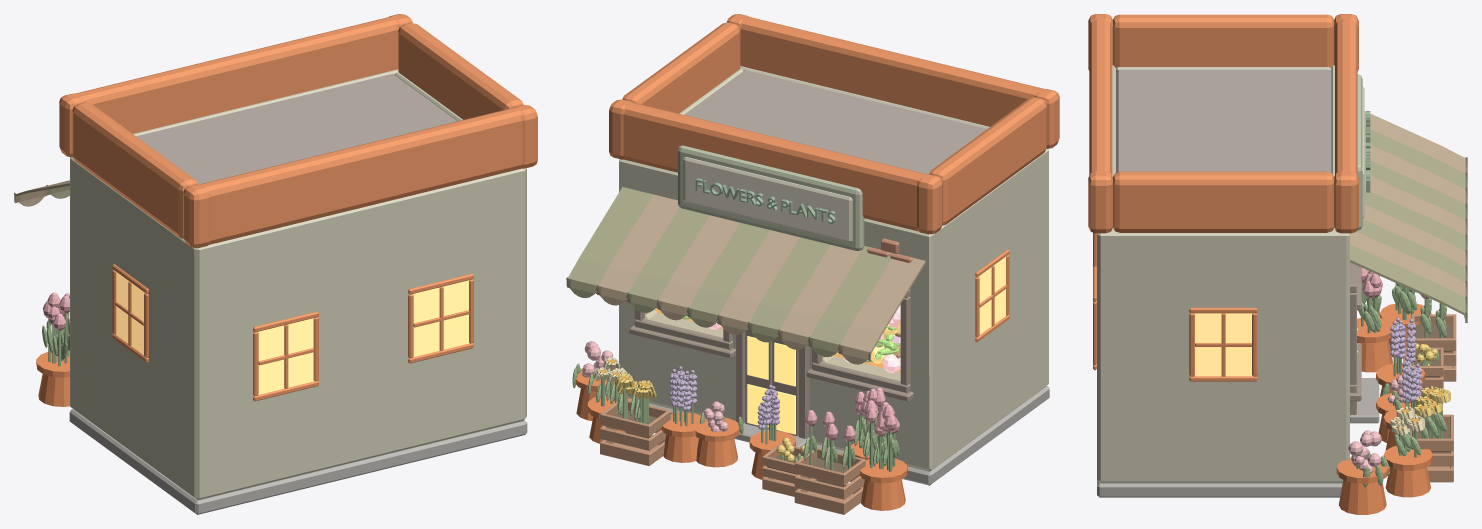
The model's file is 03-flower-shop.glb.
3 views of the same model, side by side, from view 1: azimuth 30°, elevation 25°; view 2: azimuth 150°, elevation 25°; view 3: azimuth 270°, elevation 25° (orthographic). The views are drawn at different scales.
Parts seen in each view (by area): view 1: Walls, ParB, Deck, ParF, ParL, Slab, ParR, SW_back_070_glow.001, SW_back_070_glow, ParC4, SW_left_000_glow, RimF (+5 smaller); view 2: Walls, Deck, ParB, ParF, Sign_plaque, ParL, ParR, Sign_frame, AwnS_0, AwnS_9, AwnS_8, AwnS_1 (+40 smaller); view 3: Walls, Deck, ParR, ParL, ParB, Slab, ParF, SW_right_000_glow, AwnS_9, AwnS_8, AwnS_7, AwnS_5 (+24 smaller).
Boxes of the visible parts, x1=… form: Walls: x1=70, y1=157, x2=526, y2=500; ParB: x1=193, y1=105, x2=528, y2=244; Deck: x1=136, y1=73, x2=457, y2=184; ParF: x1=68, y1=14, x2=403, y2=133; ParL: x1=72, y1=102, x2=197, y2=238; Slab: x1=69, y1=409, x2=527, y2=514; ParR: x1=398, y1=23, x2=523, y2=119; SW_back_070_glow.001: x1=413, y1=280, x2=469, y2=356; SW_back_070_glow: x1=258, y1=318, x2=314, y2=394; ParC4: x1=183, y1=184, x2=210, y2=248; SW_left_000_glow: x1=116, y1=272, x2=144, y2=354; RimF: x1=133, y1=69, x2=398, y2=136; Walls: x1=619, y1=149, x2=1048, y2=471; Deck: x1=685, y1=70, x2=986, y2=174; ParB: x1=735, y1=14, x2=1050, y2=126; ParF: x1=618, y1=100, x2=933, y2=231; Sign_plaque: x1=683, y1=157, x2=852, y2=242; ParL: x1=929, y1=97, x2=1046, y2=225; ParR: x1=622, y1=22, x2=740, y2=113; Sign_frame: x1=678, y1=145, x2=864, y2=250; AwnS_0: x1=838, y1=257, x2=925, y2=364; AwnS_9: x1=566, y1=187, x2=652, y2=298; AwnS_8: x1=596, y1=194, x2=679, y2=305; AwnS_1: x1=808, y1=246, x2=891, y2=357; Walls: x1=1097, y1=228, x2=1349, y2=483; Deck: x1=1116, y1=69, x2=1330, y2=172; ParR: x1=1113, y1=171, x2=1334, y2=232; ParL: x1=1113, y1=14, x2=1334, y2=67; ParB: x1=1089, y1=14, x2=1112, y2=175; Slab: x1=1097, y1=480, x2=1342, y2=497; ParF: x1=1335, y1=14, x2=1357, y2=175; SW_right_000_glow: x1=1194, y1=313, x2=1252, y2=376; AwnS_9: x1=1350, y1=244, x2=1467, y2=322; AwnS_8: x1=1350, y1=231, x2=1467, y2=298; AwnS_7: x1=1356, y1=219, x2=1467, y2=283; AwnS_5: x1=1364, y1=189, x2=1467, y2=252.
Bounding box in the file's own units: 3.39 × 2.82 × 3.
